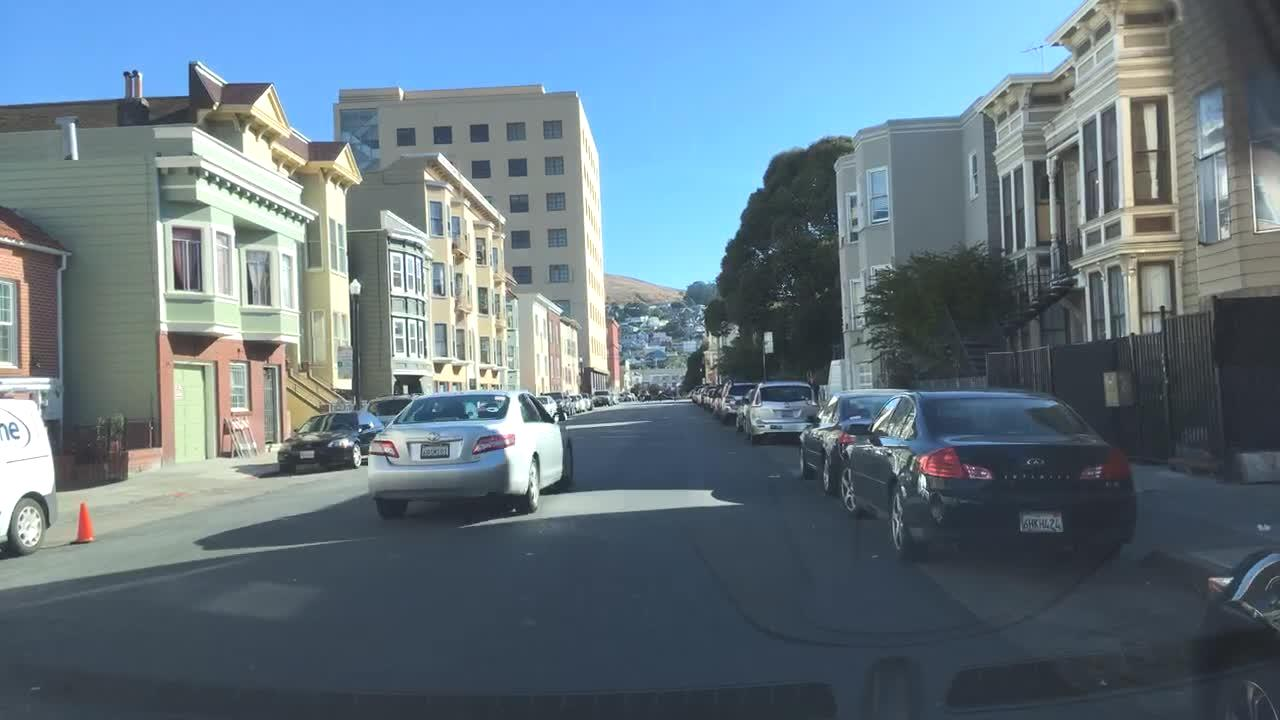Infiniti: (1024, 456, 1046, 466)
Toyota: (421, 429, 449, 446)
